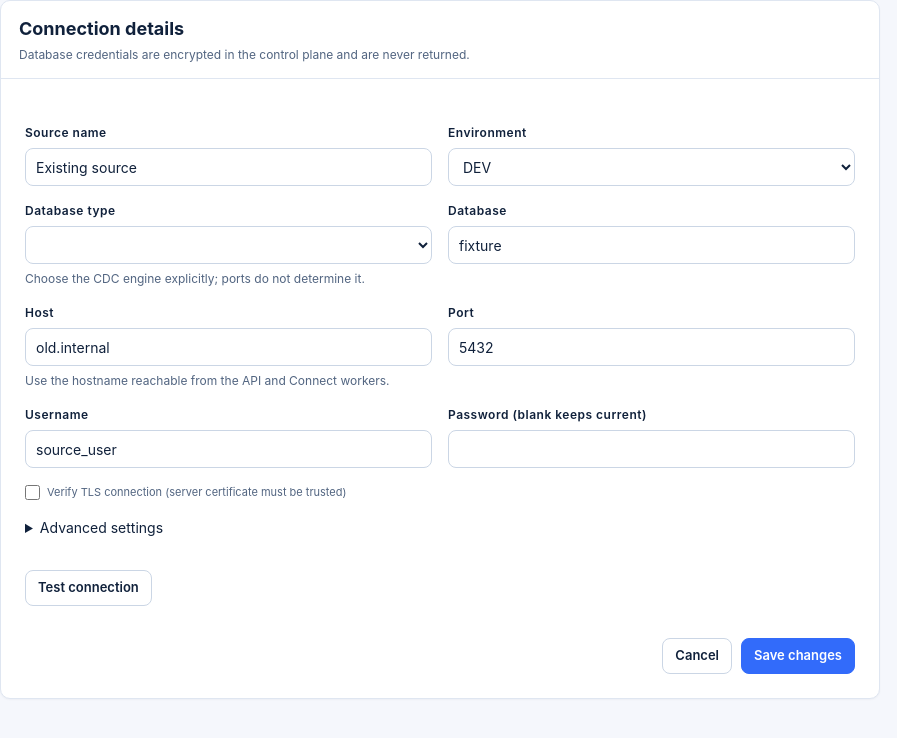
Scenario: source connection forms › tests edited values with a retained password
Replace the text in the field labelled "Host" with "edited.internal": x=228, y=347 [25,328,432,366]
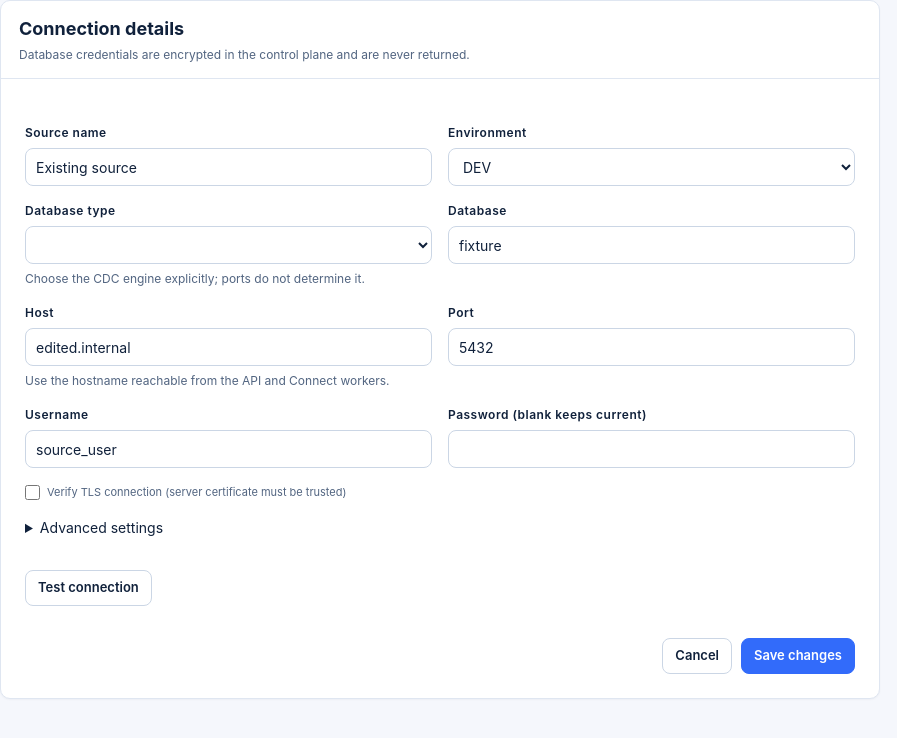
Click the button "Test connection": x=88, y=588 [25,570,152,606]
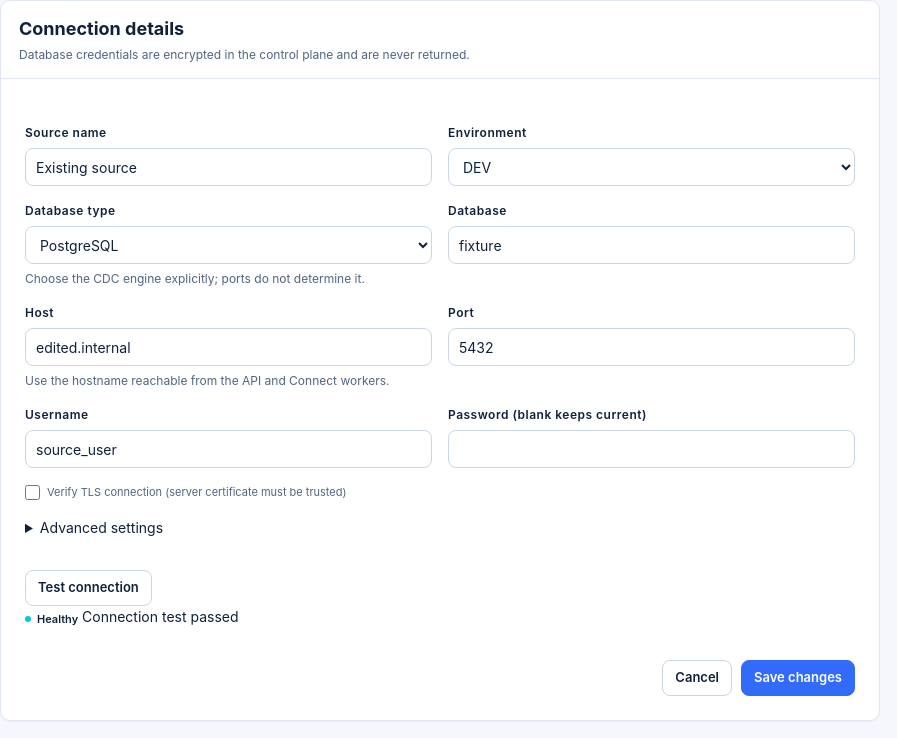
expect the text "Connection test passed" is shown: met, box [82,608,238,624]
